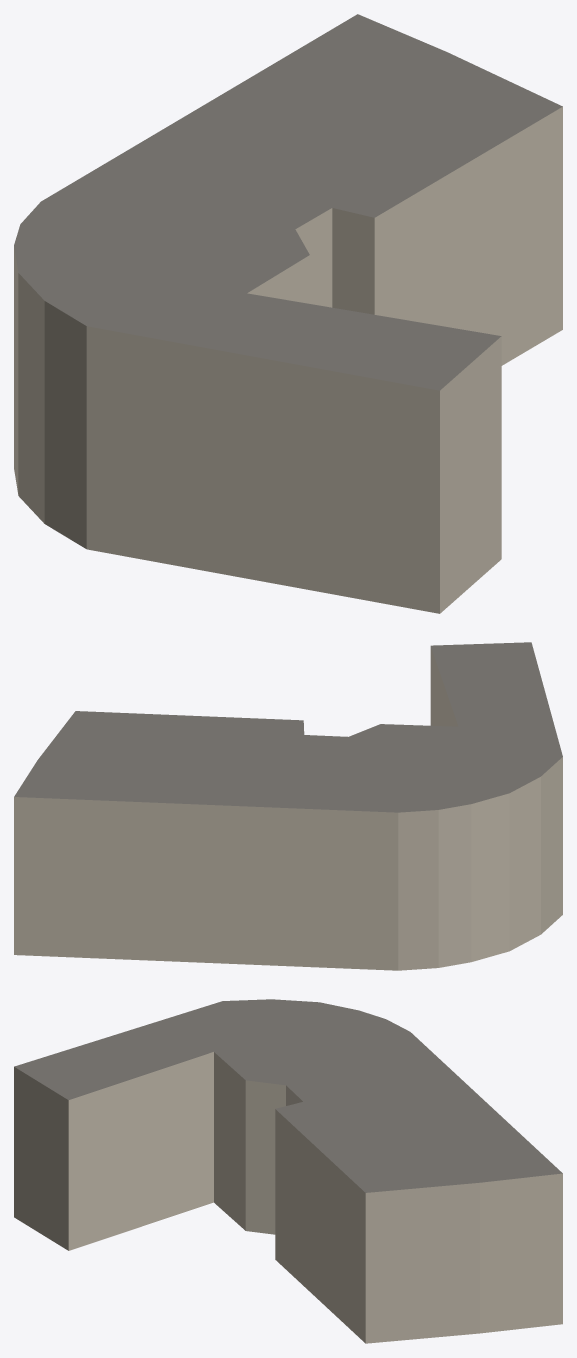
3 renders of one model, top to bottom at view 1: azimuth 30°, elevation 25°; view 2: azimuth 150°, elevation 25°; view 3: azimuth 270°, elevation 25°, orthographic. The views are drawn at different scales.
Parts seen in each view (by area): view 1: HP-w369237852; view 2: HP-w369237852; view 3: HP-w369237852.
Boxes of the visible parts, bbox=[...] form: HP-w369237852: bbox=[14, 14, 562, 613]; HP-w369237852: bbox=[14, 642, 562, 970]; HP-w369237852: bbox=[14, 999, 562, 1343].
Bounding box in the file's own units: 49.61 × 18 × 59.42.
